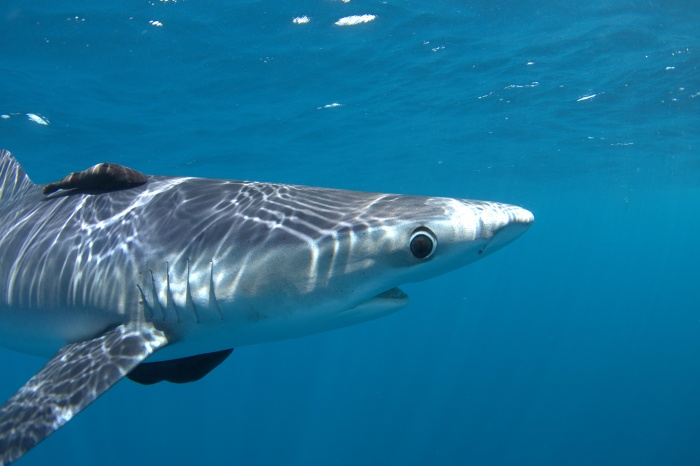Azul: (12, 85, 636, 466)
